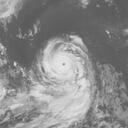cyclone: (35, 34, 88, 91)
